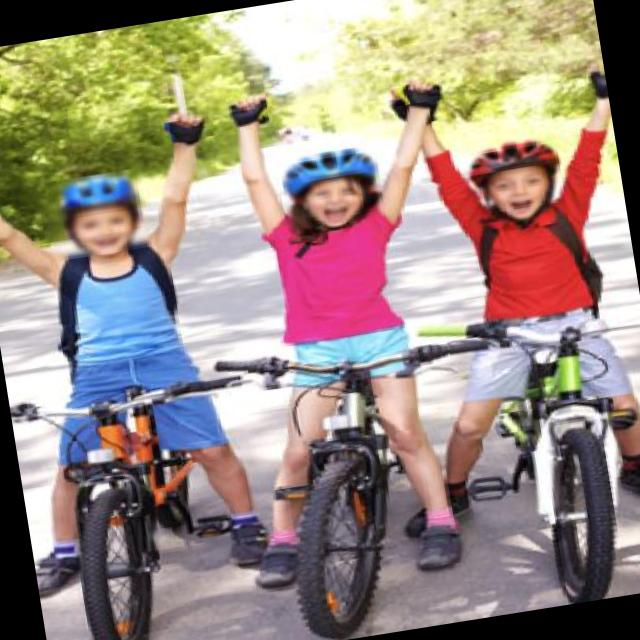With Helmet: (460, 132, 572, 234), (44, 168, 154, 260), (280, 144, 390, 233)
